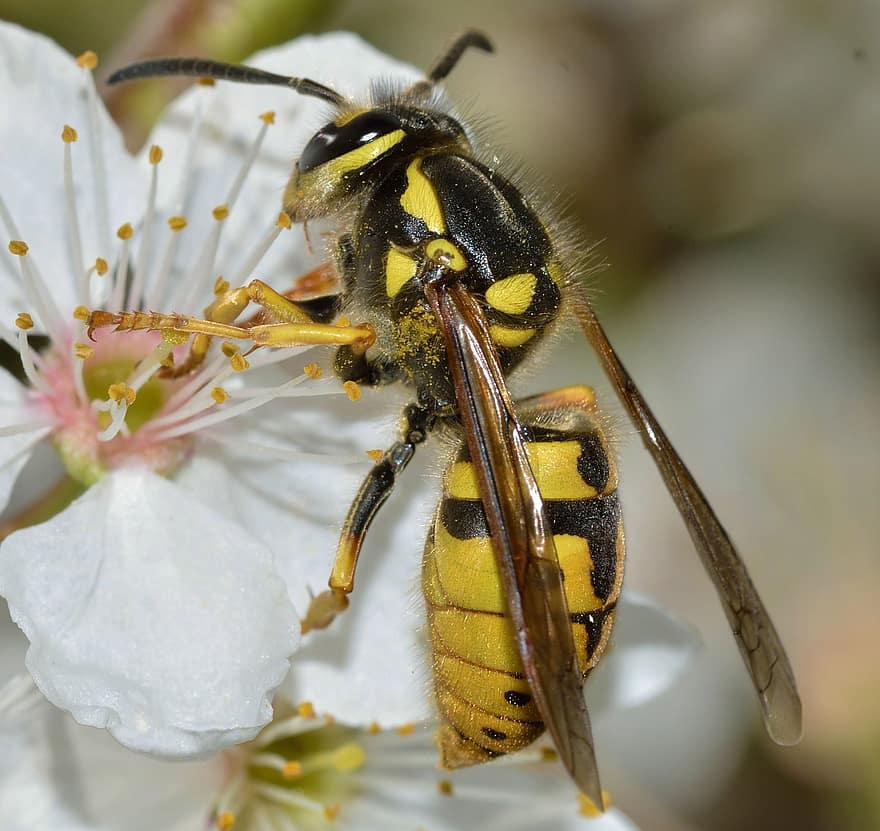chax: (76, 15, 836, 809)
